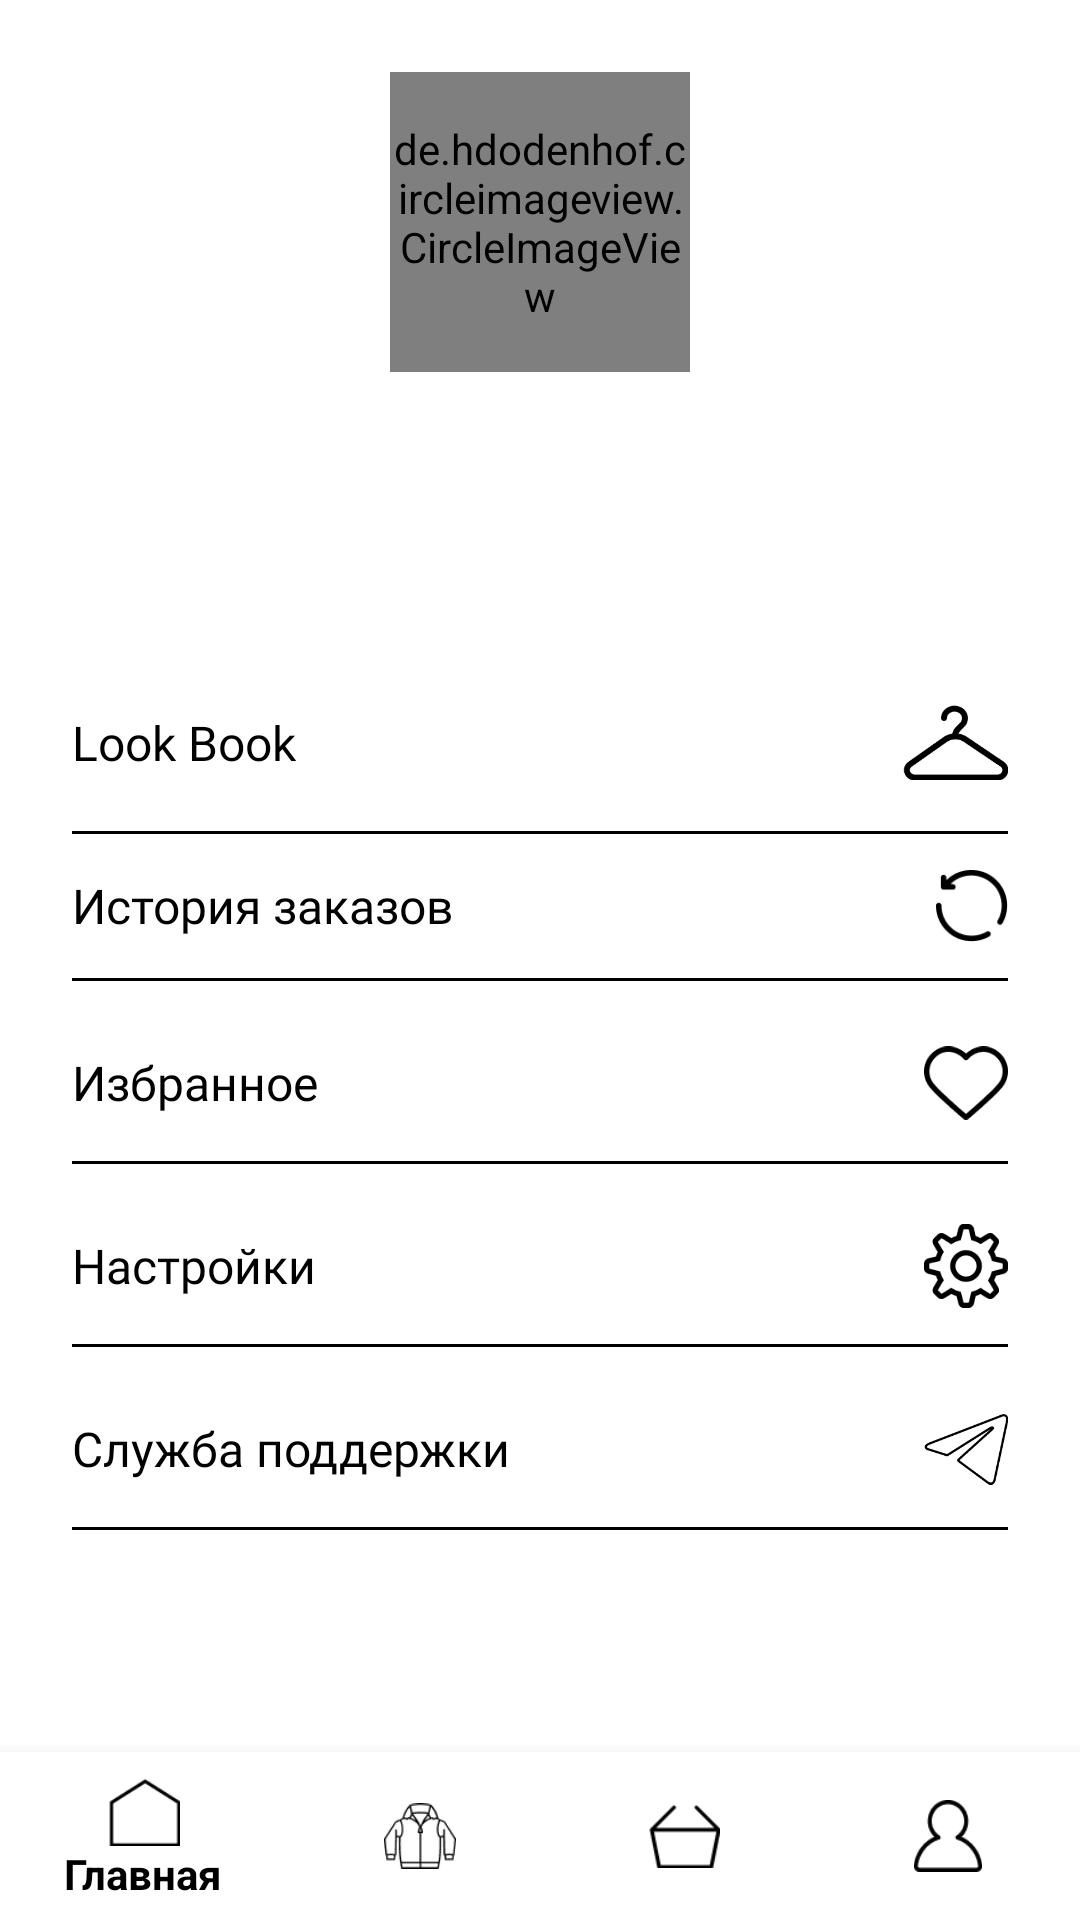

Where icons sit on this 1080*1920 app screen, as (x1, y1, x2, y2):
favorite settings: (924, 1046, 1008, 1120)
history: (936, 870, 1008, 942)
settings: (924, 1224, 1008, 1308)
